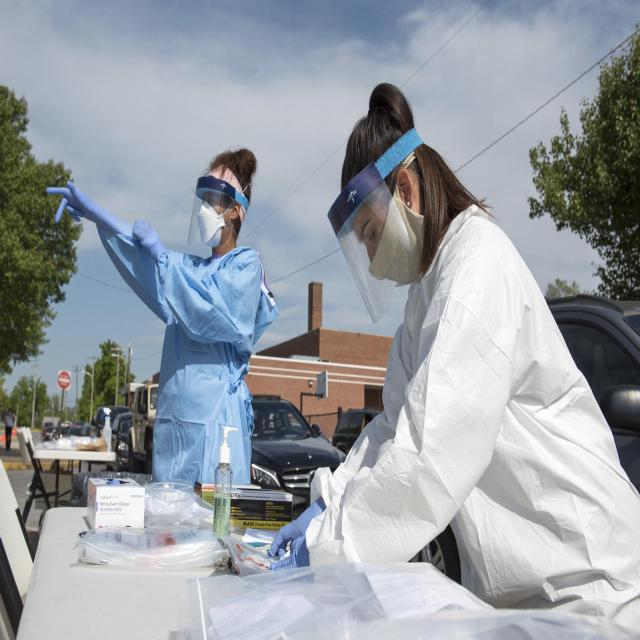Gloves: (43, 179, 123, 247), (270, 495, 329, 572), (132, 217, 164, 261)
Mask: (369, 197, 428, 288), (196, 202, 225, 245)
